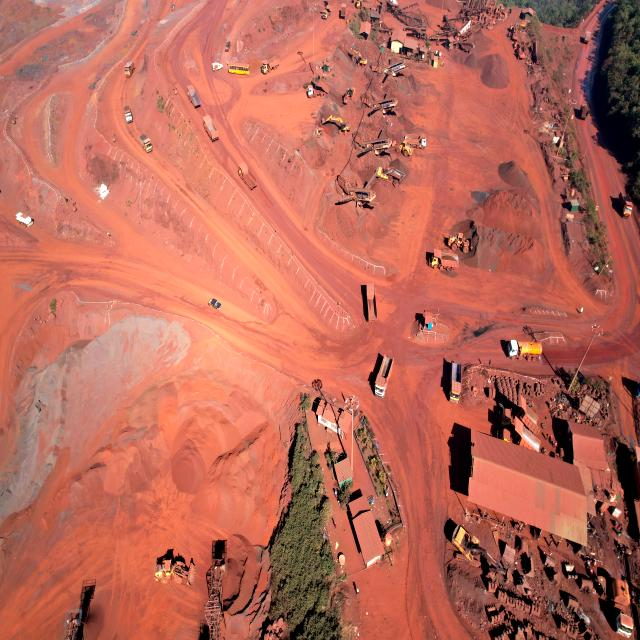Dumper truck: (503, 422, 539, 446), (502, 399, 537, 423), (374, 356, 392, 394), (432, 248, 458, 272), (448, 362, 461, 402), (363, 285, 376, 320), (202, 115, 217, 143), (186, 82, 201, 109), (307, 77, 328, 96), (238, 160, 252, 188), (261, 56, 282, 74), (618, 199, 634, 217), (406, 134, 427, 147), (321, 1, 332, 20), (124, 60, 135, 78), (356, 0, 372, 10), (429, 255, 440, 269), (581, 102, 588, 119), (374, 386, 385, 396), (124, 110, 132, 122), (584, 30, 592, 42), (341, 3, 346, 19)
Excavator: (450, 524, 481, 567), (477, 547, 510, 577), (154, 554, 192, 580), (321, 114, 351, 133), (377, 167, 405, 187), (350, 46, 368, 67), (343, 84, 356, 102)
car: (208, 298, 222, 308), (212, 63, 224, 72)
person: (577, 306, 585, 314)
